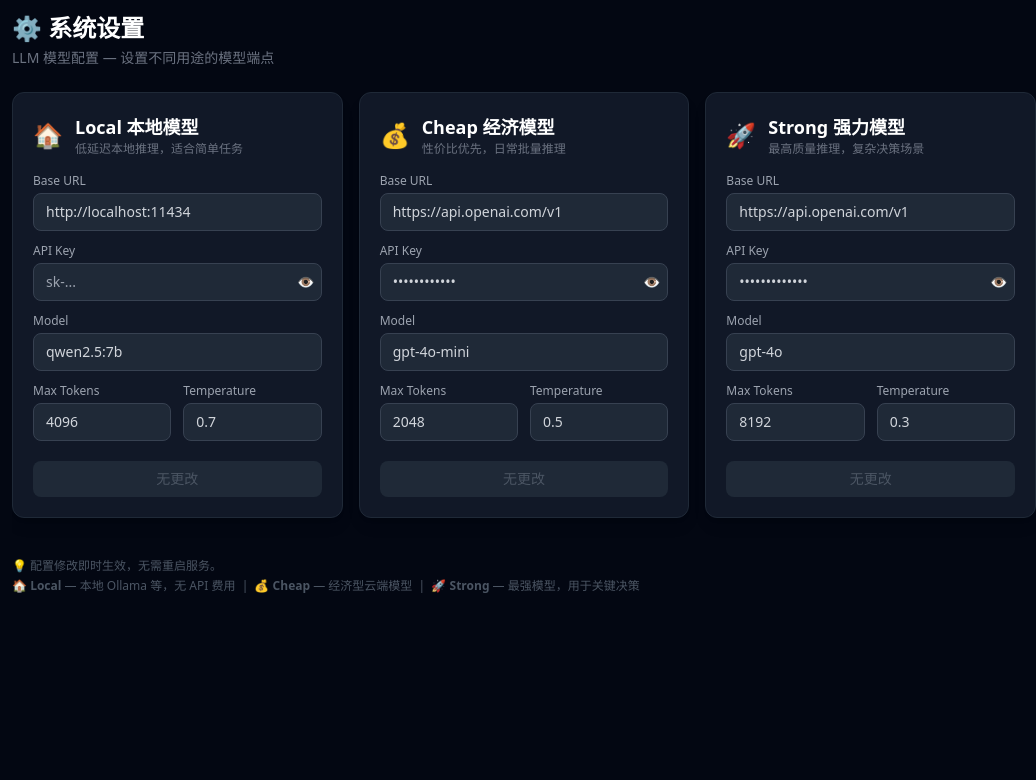
Scenario: Settings › 保存成功后应显示成功 toast
expect the heading "Local 本地模型" is shown: met, box x1=75 y1=115 x2=199 y2=139
Type "llama3:8b" into the 4th field with placeholder "qwen2.5:7b".
click(177, 352); type("llama3:8b")  # box x1=33 y1=333 x2=322 y2=371
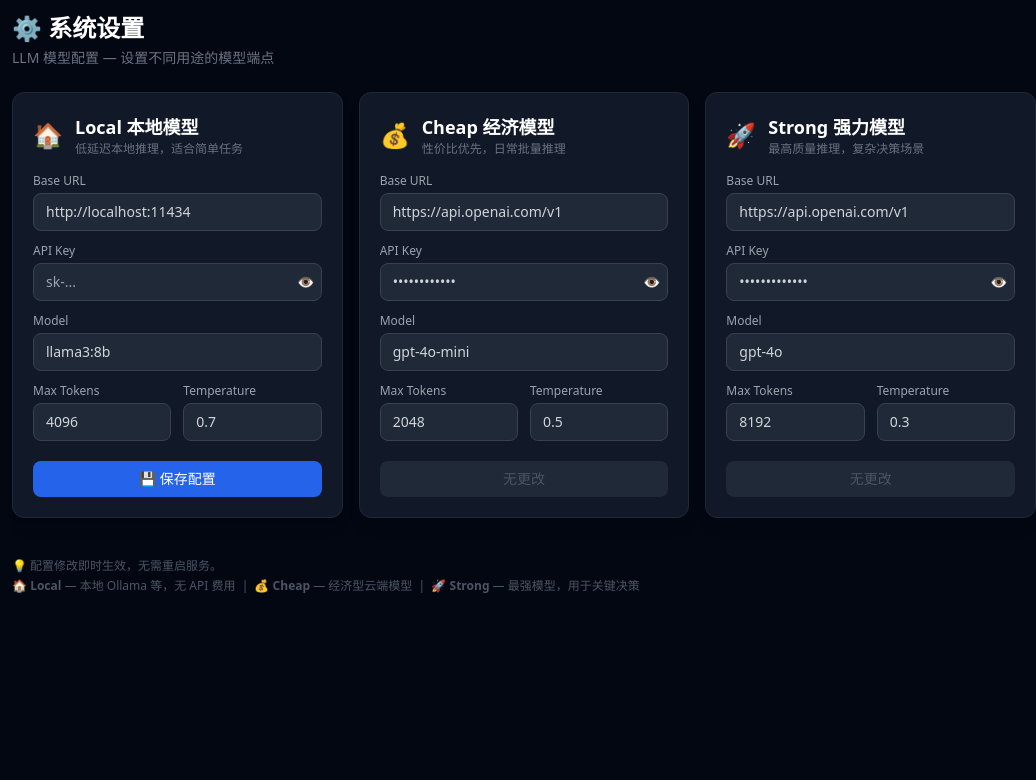
Click the button "💾 保存配置".
click(177, 479)  # box x1=33 y1=461 x2=322 y2=497
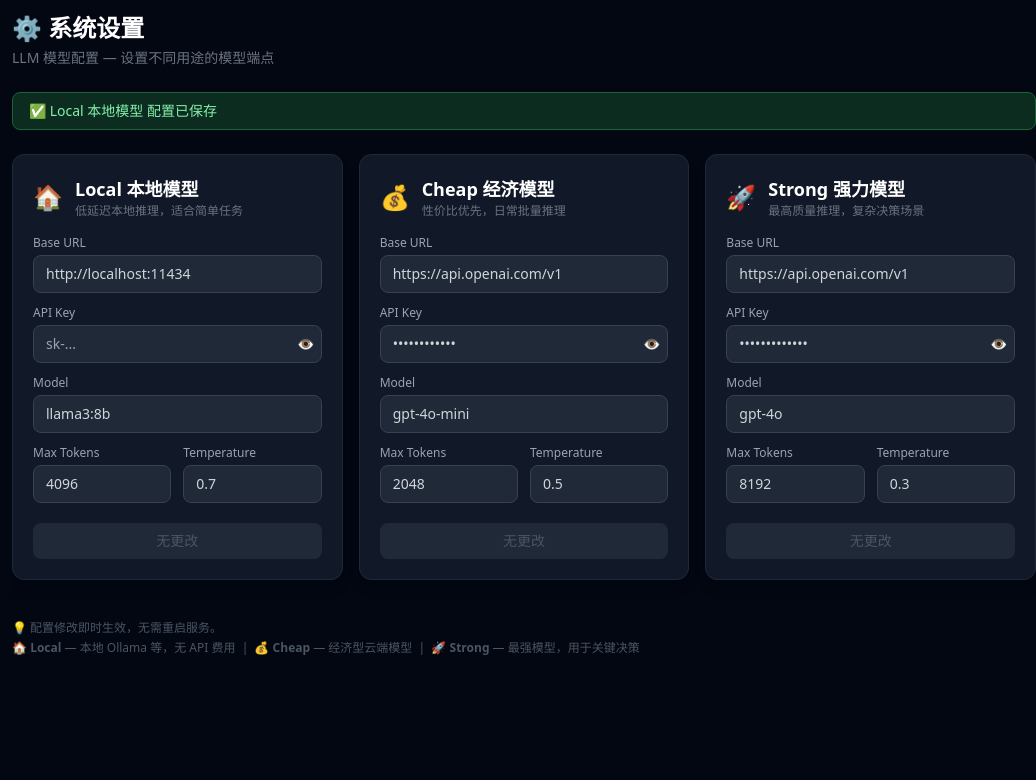
expect the text "✅ Local 本地模型 配置已保存" is shown: met, box x1=12 y1=92 x2=1035 y2=130
